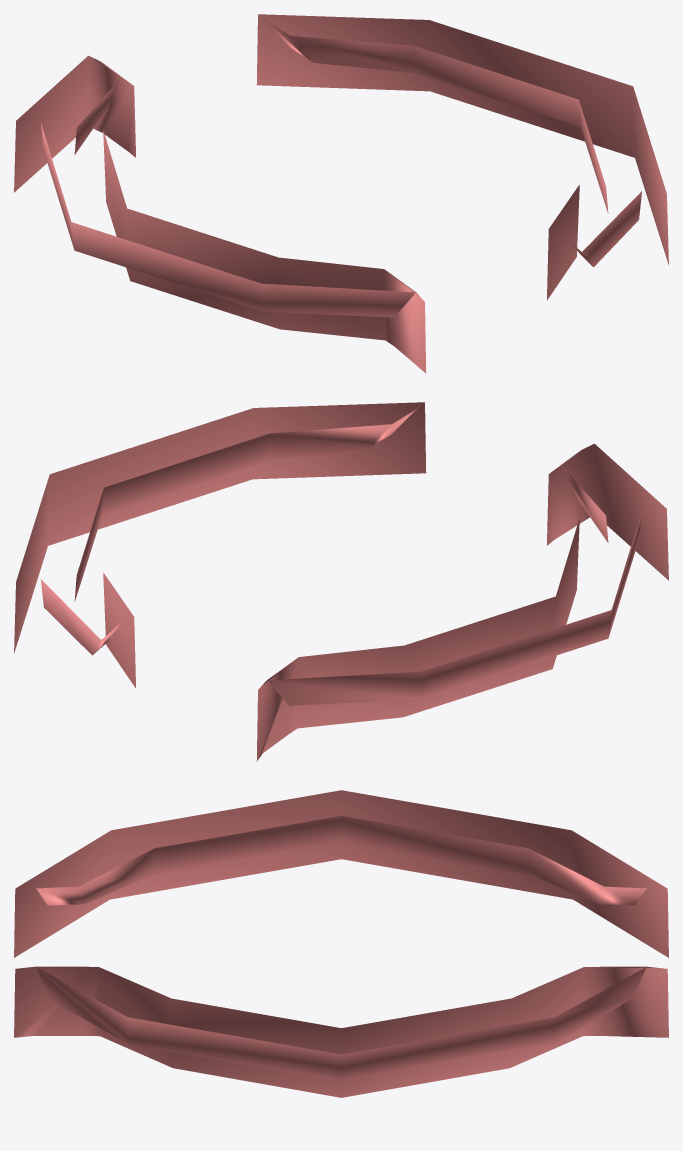
File: entity430280.gltf
The picture shows the model from 3 angles, top to bottom: view 1: azimuth 30°, elevation 25°; view 2: azimuth 150°, elevation 25°; view 3: azimuth 270°, elevation 25°; orthographic projection. The views are drawn at different scales.
Visible parts, largest first — view 1: node_polySurface611; view 2: node_polySurface611; view 3: node_polySurface611.
Boxes of the visible parts, x1,y1,x2,y2 form: node_polySurface611: (14, 14, 668, 373); node_polySurface611: (14, 402, 668, 761); node_polySurface611: (14, 790, 668, 1097).
Size of the model in its own units: 7.65 by 0.9184 by 7.62.
